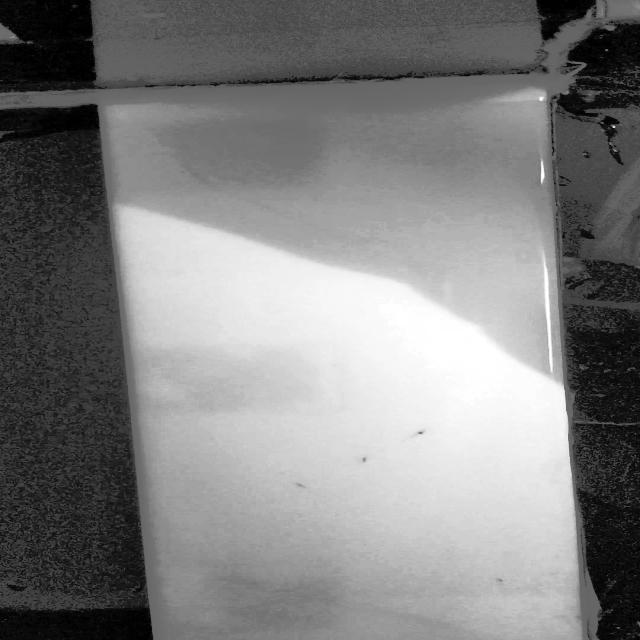shrimp: (403, 423, 437, 442), (350, 450, 376, 468), (289, 477, 319, 488), (493, 576, 494, 577)
